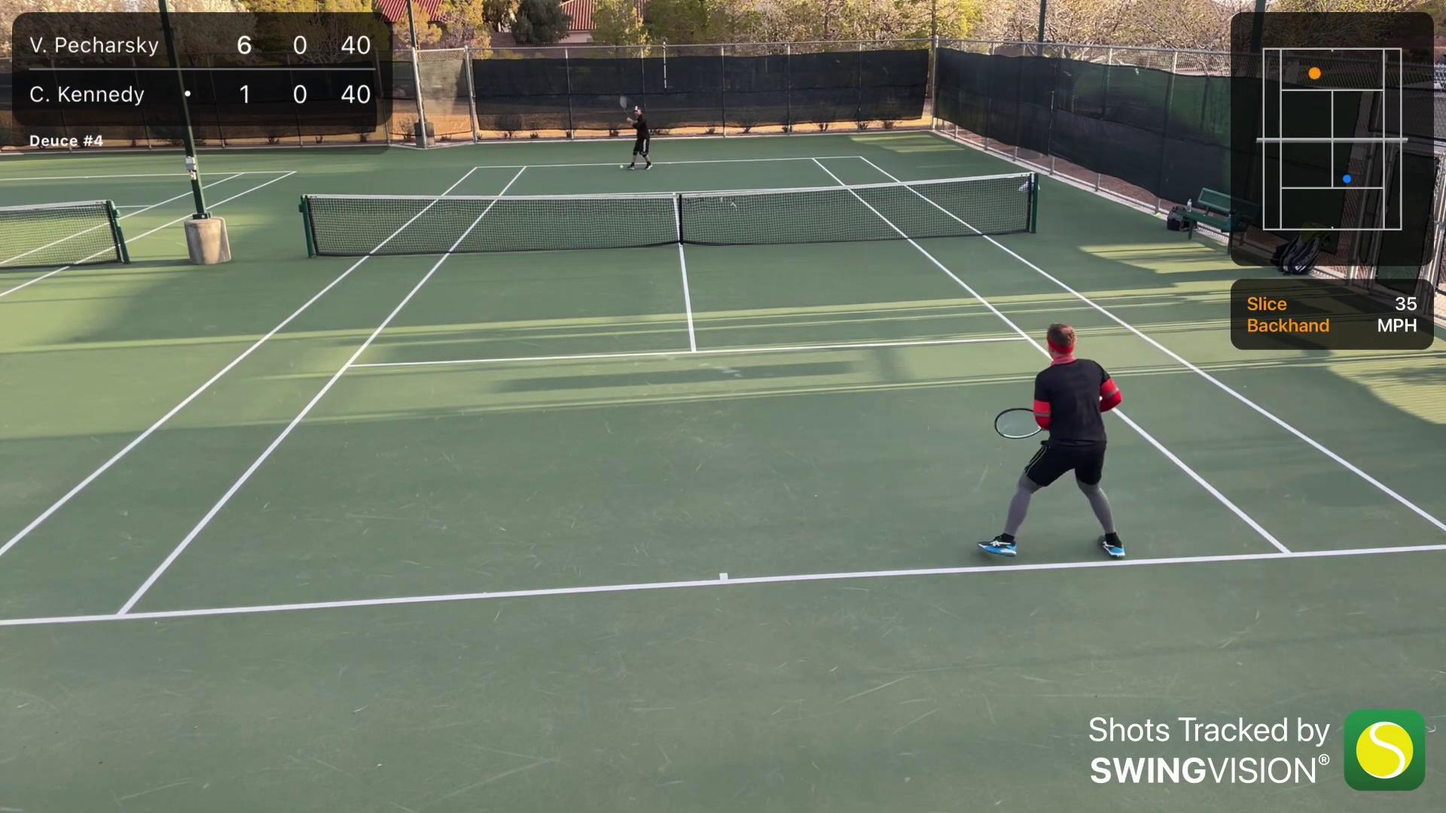ball: (619, 163, 624, 169)
